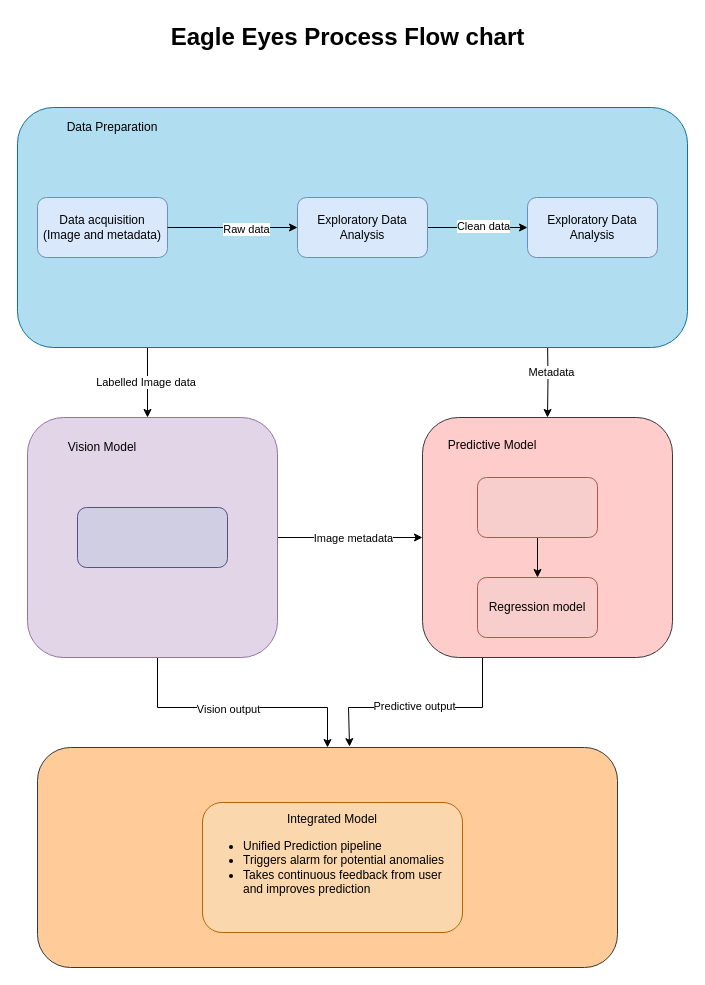
Some shapes in this 705 by 985 pixel diagram are drawn without their labels. Each missing label, with the box of its shape:
CNN model: (76, 506, 228, 568)
Feature engineering: (476, 476, 598, 538)
